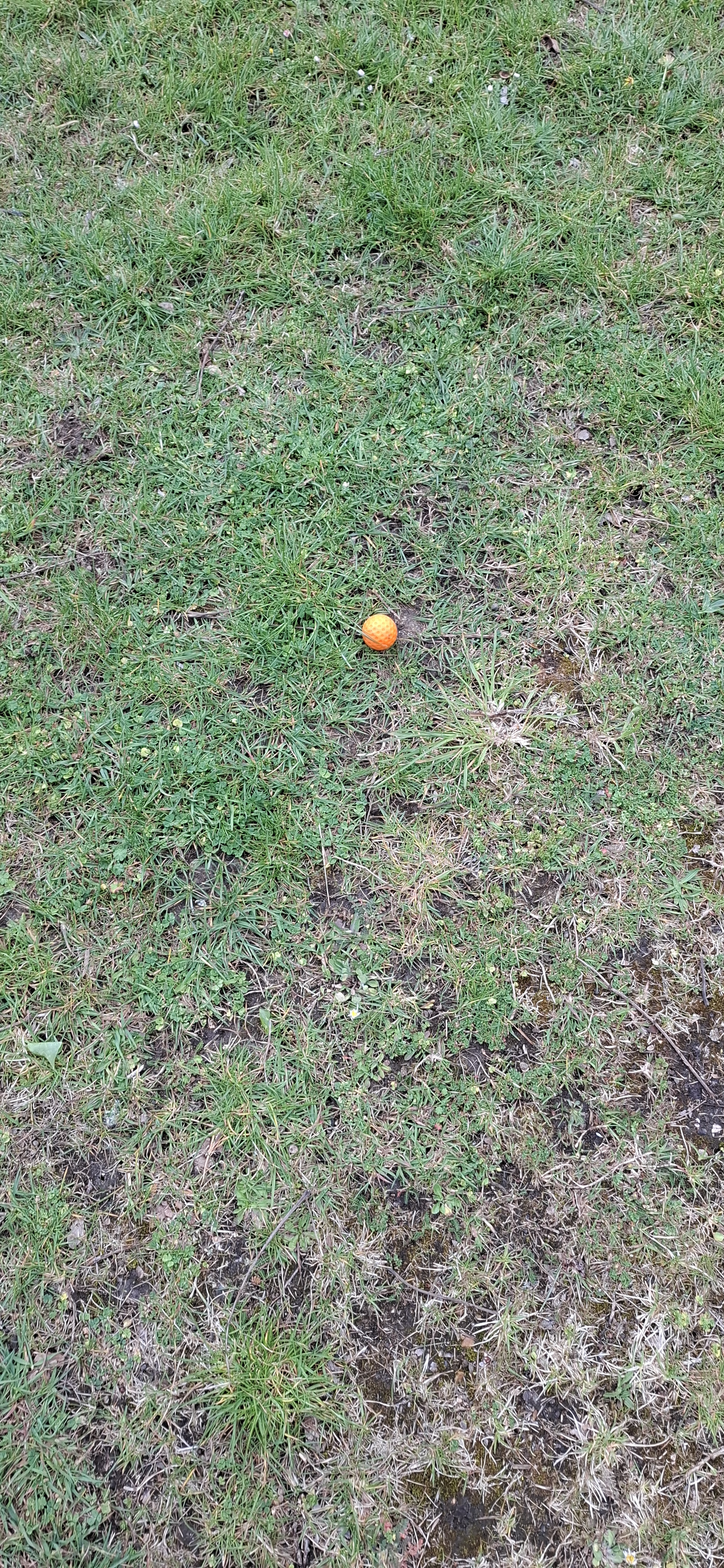ball: (283, 707, 300, 783)
